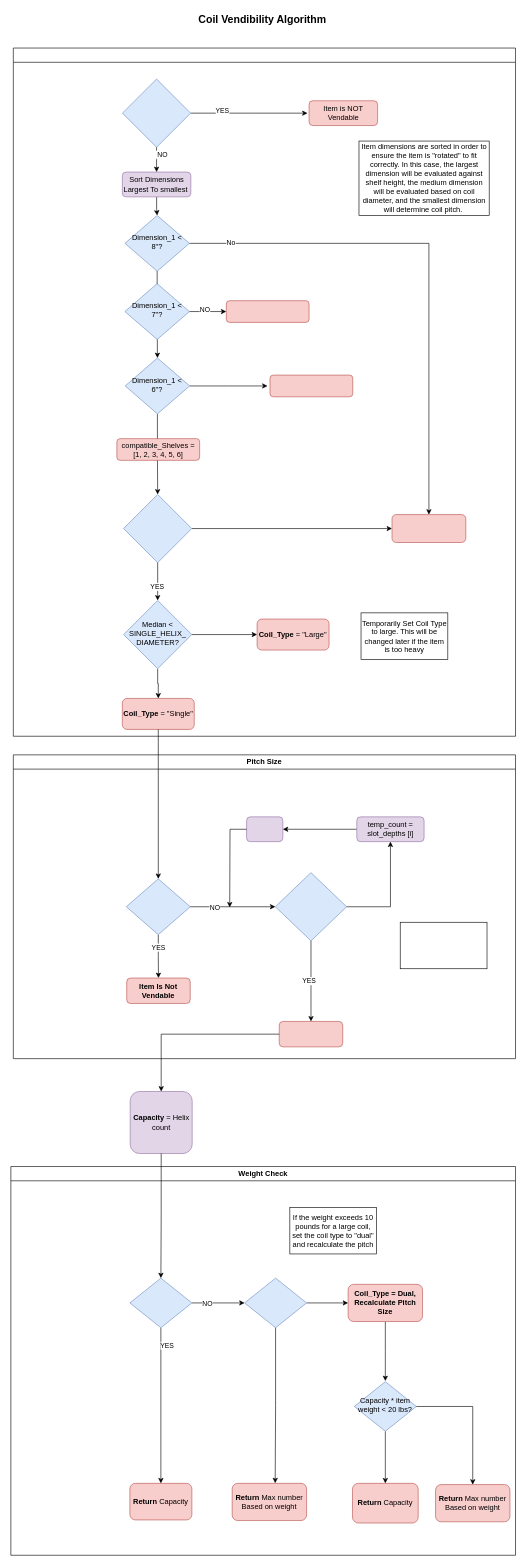
Some shapes in this 526 by 1566 pixel diagram are drawn without their labels. Here are the shapes that lost their labels. From the top down, the centre of each, then its label:
point 156,112: Store vertically?
point 267,311: compatible_Shelves = [1]
point 311,385: compatible_Shelves = [1, 3, 4, 5, 6 ]
point 157,528: Median Dimension < DUAL HELIX DIAMETER ?
point 428,528: Not Vendable
point 264,829: i ++
point 158,906: Smallest Dimension >= slot_depths[0]
point 311,906: Smallest Dimension > slot_depths[i] ?
point 443,945: Loop checks each of the coil pitch slot depths to calculate best fit.
point 311,1034: count = temp_count
point 160,1303: Capacity * item weight < 10 lbs?
point 275,1303: Coil_Type = "Large"?
